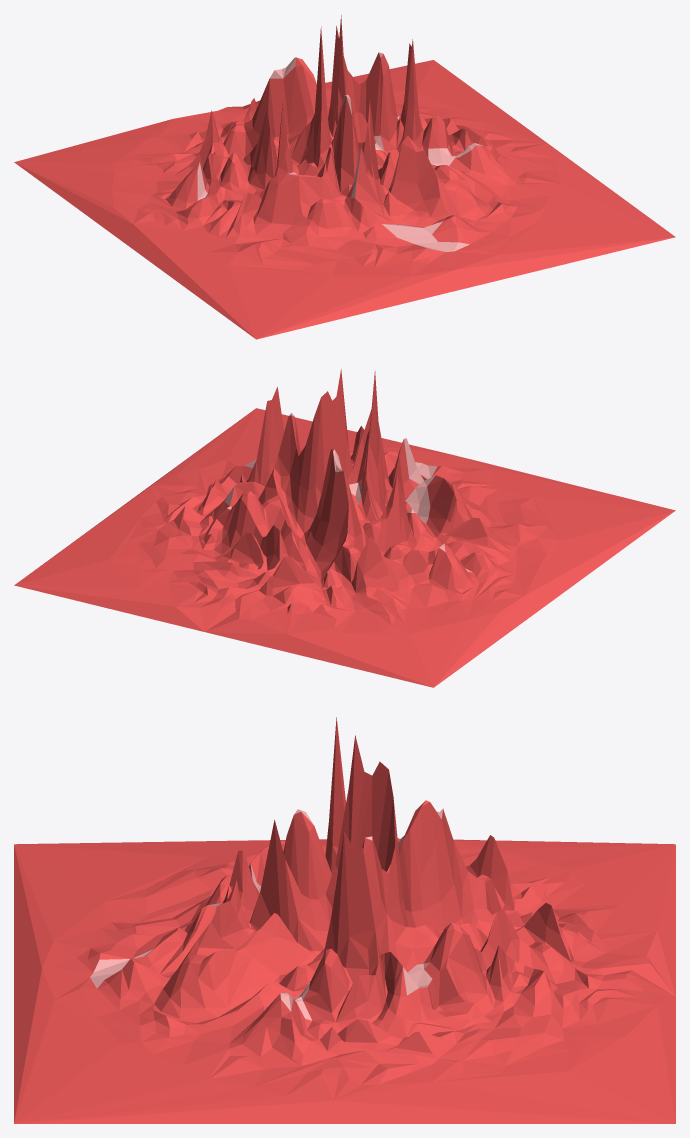
File: Stage.glb
3 views of the same model, one above another, from view 1: azimuth 30°, elevation 25°; view 2: azimuth 150°, elevation 25°; view 3: azimuth 270°, elevation 25° (orthographic). The views are drawn at different scales.
Visible parts, largest first — view 1: Plane; view 2: Plane; view 3: Plane.
Boxes of the visible parts, bbox=[...] form: Plane: bbox=[14, 15, 675, 339]; Plane: bbox=[14, 369, 675, 687]; Plane: bbox=[14, 717, 675, 1123].
Size of the model in its own units: 7.65 by 3.19 by 7.65.
